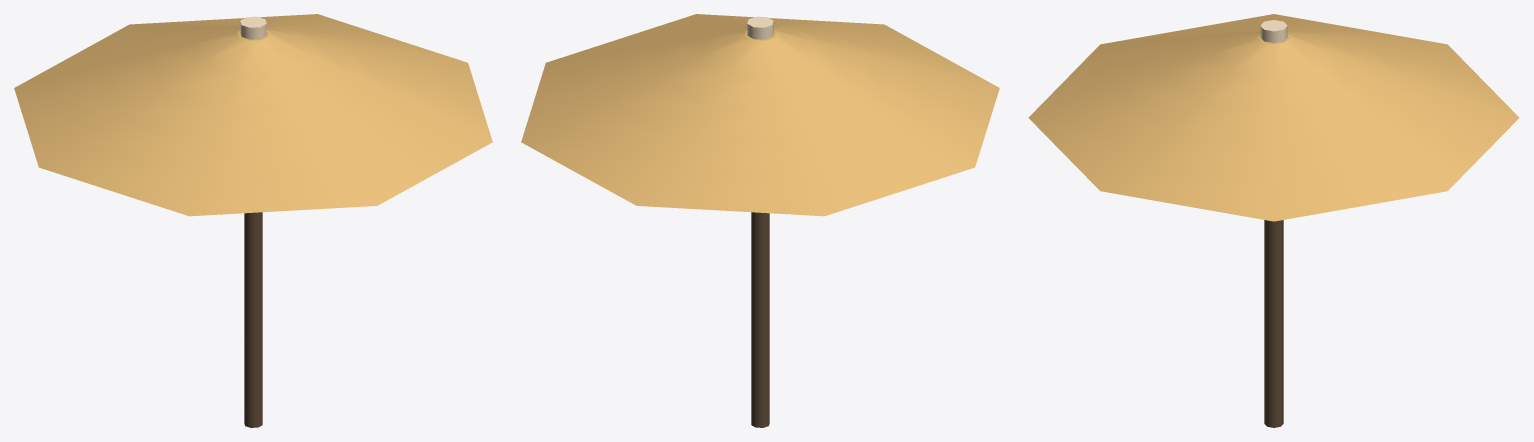
File: umbrella.glb
3 views of the same model, side by side, from view 1: azimuth 30°, elevation 25°; view 2: azimuth 150°, elevation 25°; view 3: azimuth 270°, elevation 25° (orthographic).
Visible parts, largest first — view 1: _MeshInstance3D_520, _MeshInstance3D_519, _MeshInstance3D_521; view 2: _MeshInstance3D_520, _MeshInstance3D_519, _MeshInstance3D_521; view 3: _MeshInstance3D_520, _MeshInstance3D_519, _MeshInstance3D_521.
Part boxes in pixels (box(x1,y1,x2,y2)): _MeshInstance3D_520: box(14, 14, 492, 216); _MeshInstance3D_519: box(244, 212, 262, 427); _MeshInstance3D_521: box(240, 16, 266, 39); _MeshInstance3D_520: box(521, 14, 999, 216); _MeshInstance3D_519: box(751, 212, 769, 427); _MeshInstance3D_521: box(747, 16, 773, 39); _MeshInstance3D_520: box(1028, 14, 1519, 221); _MeshInstance3D_519: box(1264, 220, 1283, 427); _MeshInstance3D_521: box(1260, 20, 1287, 42).
Size of the model in its own units: 3.6 by 3.22 by 3.6.
